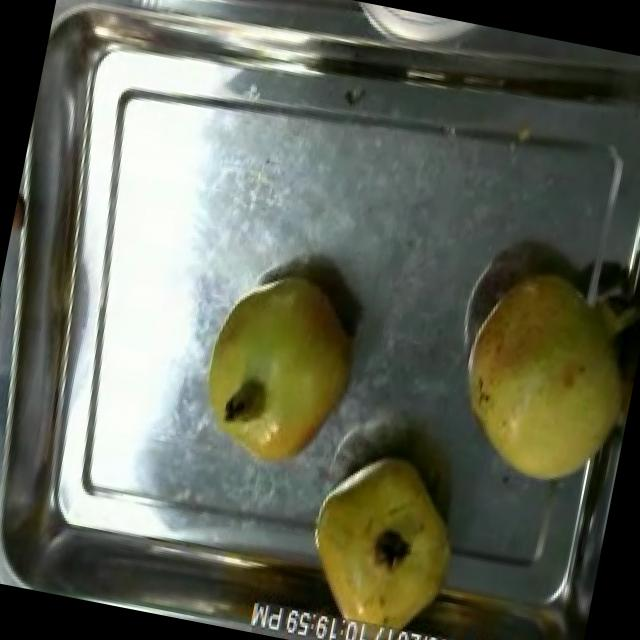fruit: (436, 248, 640, 507), (184, 250, 376, 488), (289, 437, 477, 640)
